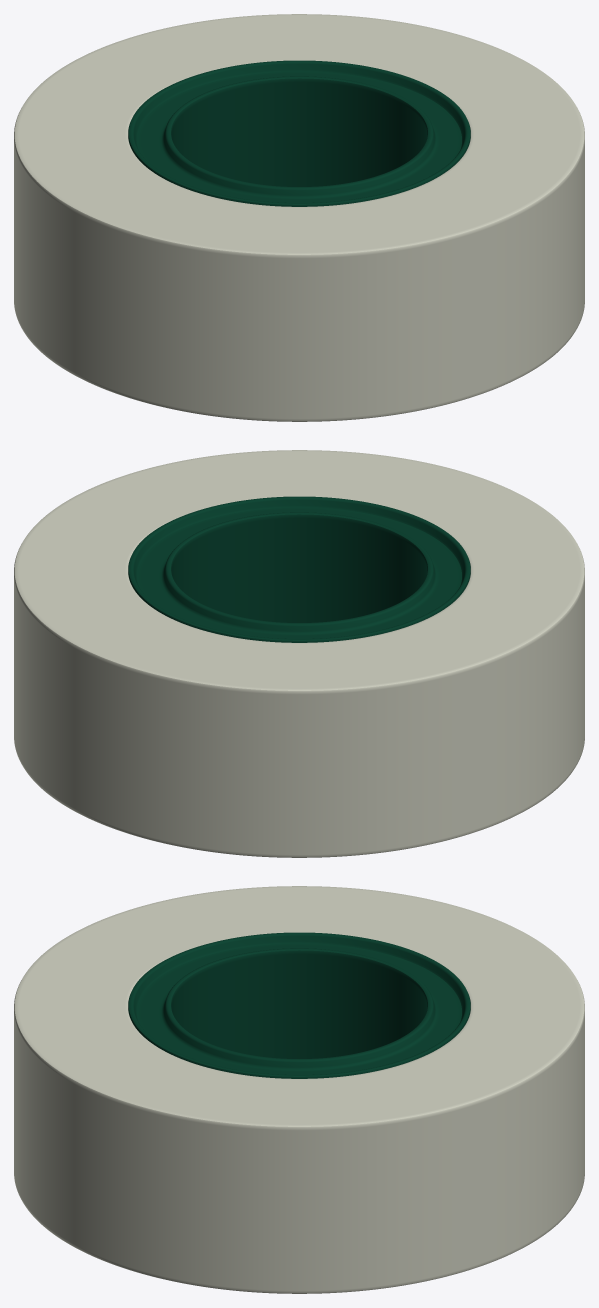
The picture shows the model from 3 angles, top to bottom: view 1: azimuth 30°, elevation 25°; view 2: azimuth 150°, elevation 25°; view 3: azimuth 270°, elevation 25°; orthographic projection.
Visible parts, largest first — view 1: part_000_Wound_tape, part_001_Central_core; view 2: part_000_Wound_tape, part_001_Central_core; view 3: part_000_Wound_tape, part_001_Central_core.
Part boxes in pixels (x1=…): part_000_Wound_tape: x1=14, y1=14, x2=584, y2=421; part_001_Central_core: x1=128, y1=60, x2=470, y2=206; part_000_Wound_tape: x1=14, y1=450, x2=584, y2=857; part_001_Central_core: x1=128, y1=496, x2=470, y2=642; part_000_Wound_tape: x1=14, y1=886, x2=584, y2=1293; part_001_Central_core: x1=128, y1=932, x2=470, y2=1078.
Bounding box in the file's own units: 0.058 × 0.0192 × 0.058.
